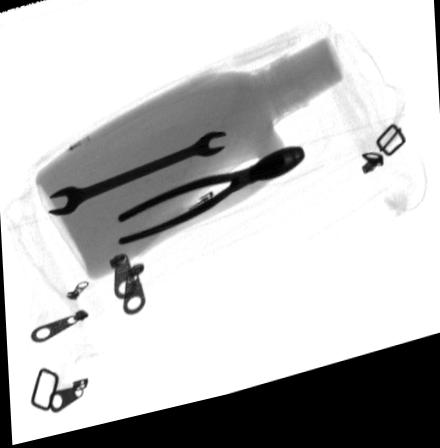Pliers: (114, 158, 303, 251)
Wrench: (47, 140, 227, 218)
